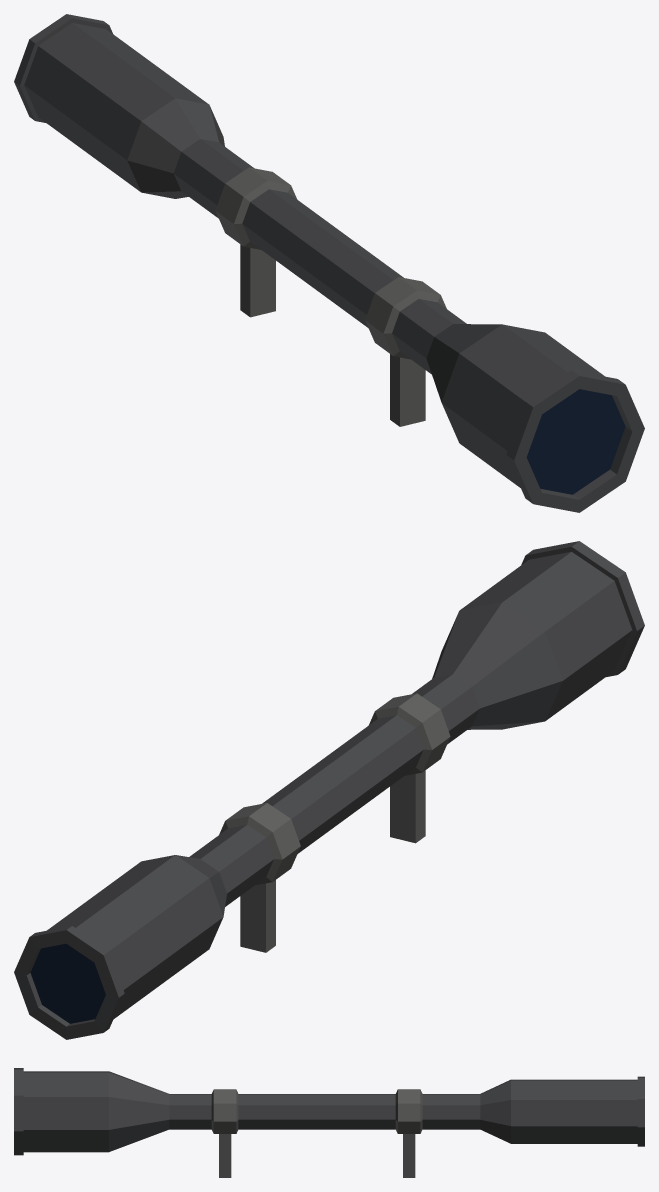
File: scope_long.glb
The picture shows the model from 3 angles, top to bottom: view 1: azimuth 30°, elevation 25°; view 2: azimuth 150°, elevation 25°; view 3: azimuth 270°, elevation 25°; orthographic projection. The views are drawn at different scales.
Parts seen in each view (by area): view 1: scope_long; view 2: scope_long; view 3: scope_long.
Boxes of the visible parts, bbox=[...] form: scope_long: bbox=[14, 14, 644, 512]; scope_long: bbox=[14, 541, 644, 1039]; scope_long: bbox=[14, 1068, 644, 1177].
Bounding box in the file's own units: 0.3099 × 0.3844 × 2.1.
